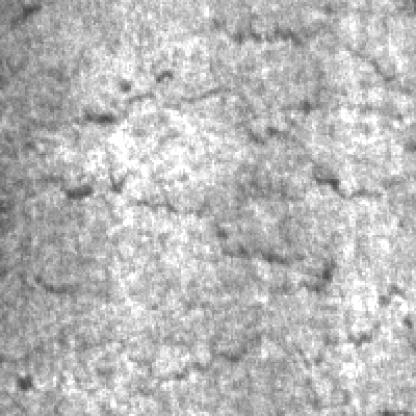crazing: (73, 233, 403, 406), (0, 165, 397, 300), (14, 19, 410, 154)
